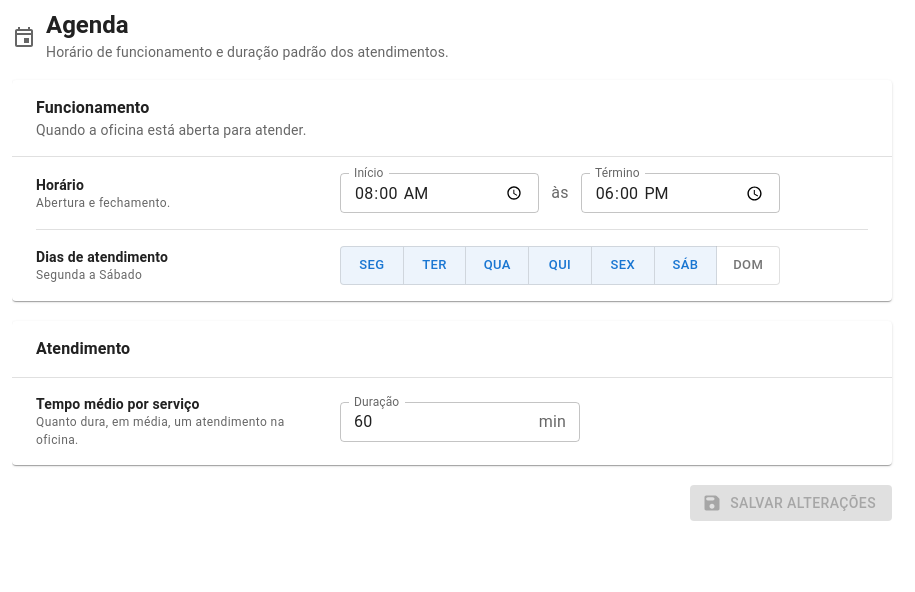
Test case: Configurações > Agenda › não salva término antes do início
Replace the text in the time field labelled "Término" with "07:00" at [680, 193], box [581, 173, 780, 213]
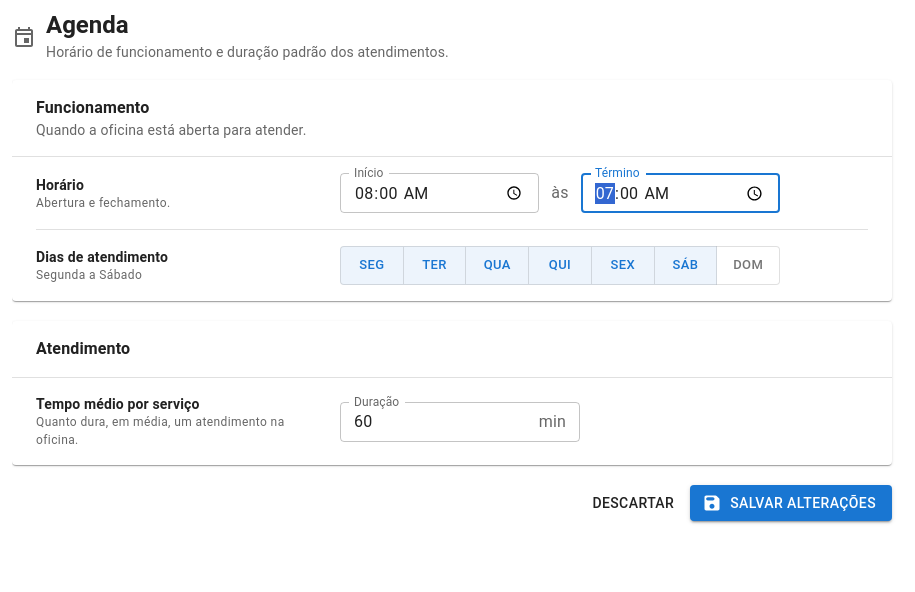
Click the button with test id "save-agenda" at [791, 503], box [690, 485, 892, 522]
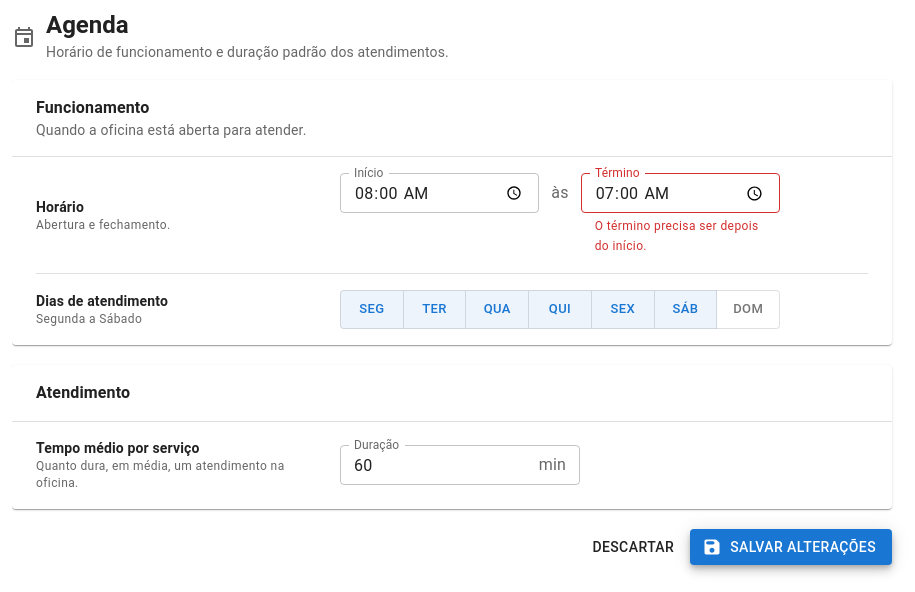
Expected: the text "O término precisa ser depois do início." is shown, [595, 217, 766, 257]
